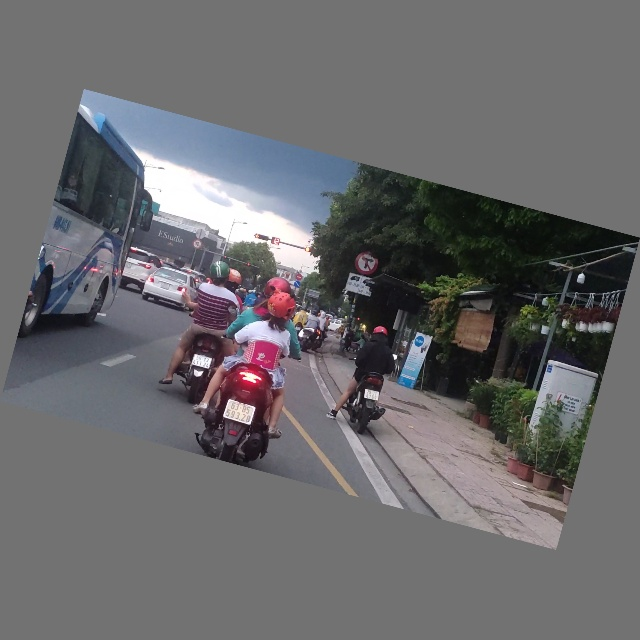P.102: (294, 273, 303, 282)
P.124a*: (191, 239, 203, 251)
P.137: (351, 248, 381, 278)
R.302a: (293, 281, 301, 289)
